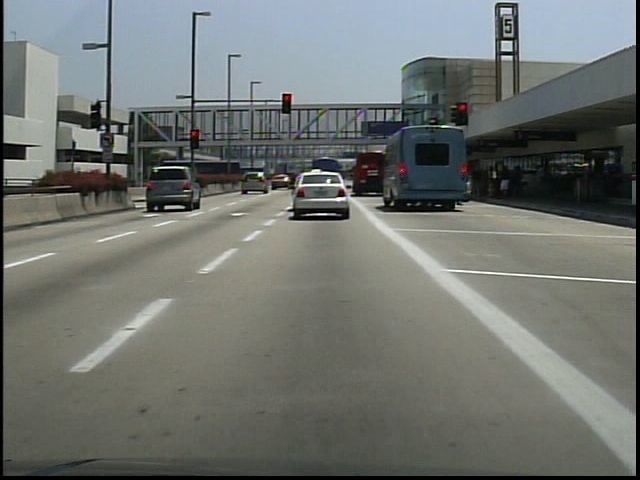person: (497, 164, 512, 204)
